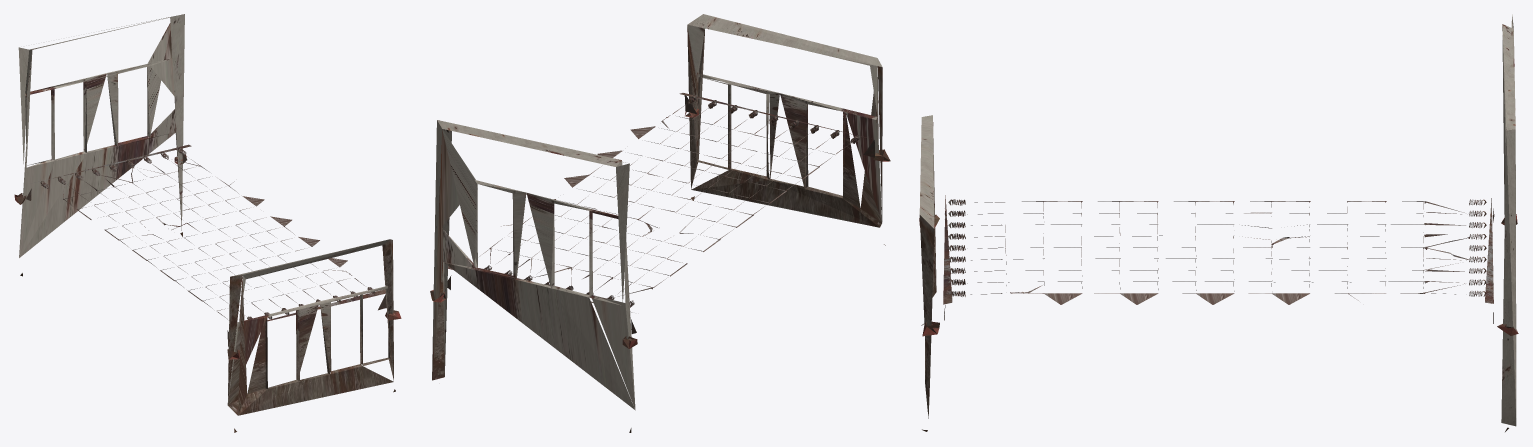
The model's file is old_bed_frame.fbx.
The picture shows the model from 3 angles, left to right: view 1: azimuth 30°, elevation 25°; view 2: azimuth 150°, elevation 25°; view 3: azimuth 270°, elevation 25°; orthographic projection. The views are drawn at different scales.
Parts seen in each view (by area): view 1: old_bed_frame_LOD0; view 2: old_bed_frame_LOD0; view 3: old_bed_frame_LOD0.
Part boxes in pixels (box(x1,y1,x2,y2)): old_bed_frame_LOD0: box(14, 14, 401, 432); old_bed_frame_LOD0: box(430, 14, 890, 432); old_bed_frame_LOD0: box(919, 14, 1518, 431).
Size of what is drawn, in the model's own units: 90.59 by 115 by 200.
Materials: 1 (1 with a texture image).
